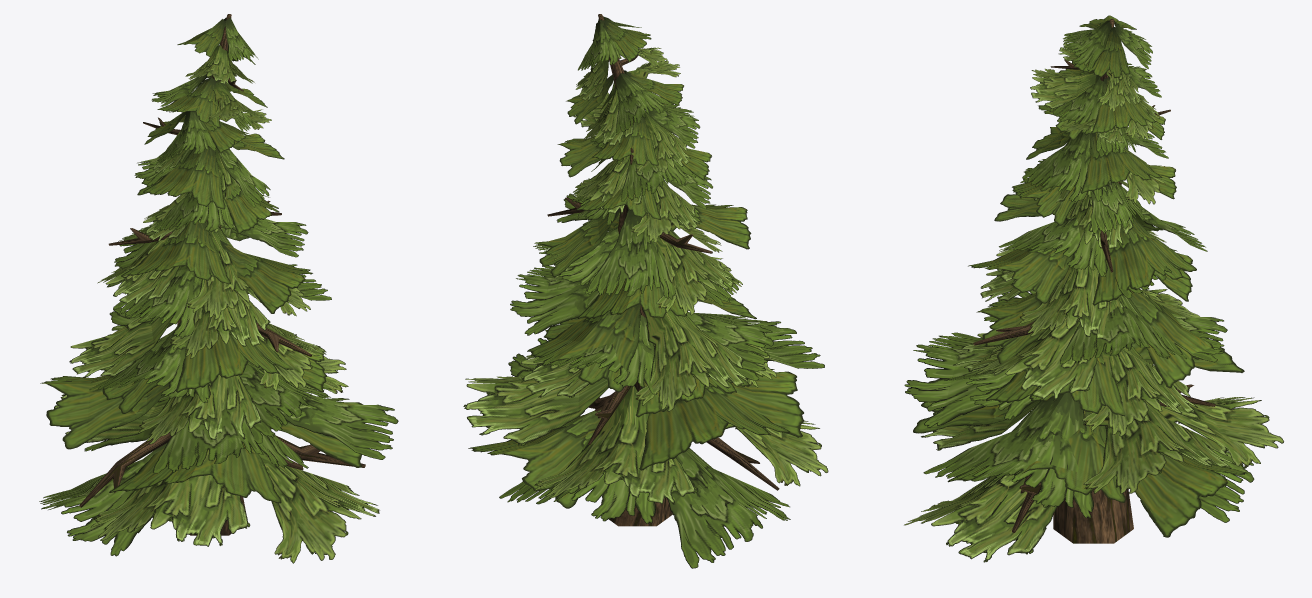
File: Tree.fbx
The picture shows the model from 3 angles, left to right: view 1: azimuth 30°, elevation 25°; view 2: azimuth 150°, elevation 25°; view 3: azimuth 270°, elevation 25°; orthographic projection. The views are drawn at different scales.
Visible parts, largest first — view 1: Leaves_03, trunk_03; view 2: Leaves_03, trunk_03; view 3: Leaves_03, trunk_03.
Boxes of the visible parts, x1=… form: Leaves_03: x1=39, y1=17, x2=398, y2=563; trunk_03: x1=79, y1=14, x2=365, y2=535; Leaves_03: x1=463, y1=16, x2=828, y2=568; trunk_03: x1=547, y1=14, x2=779, y2=526; Leaves_03: x1=904, y1=15, x2=1283, y2=562; trunk_03: x1=973, y1=19, x2=1215, y2=543.
Bounding box in the file's own units: 5.5 × 7.31 × 5.31.
2 materials, 2 textured.
